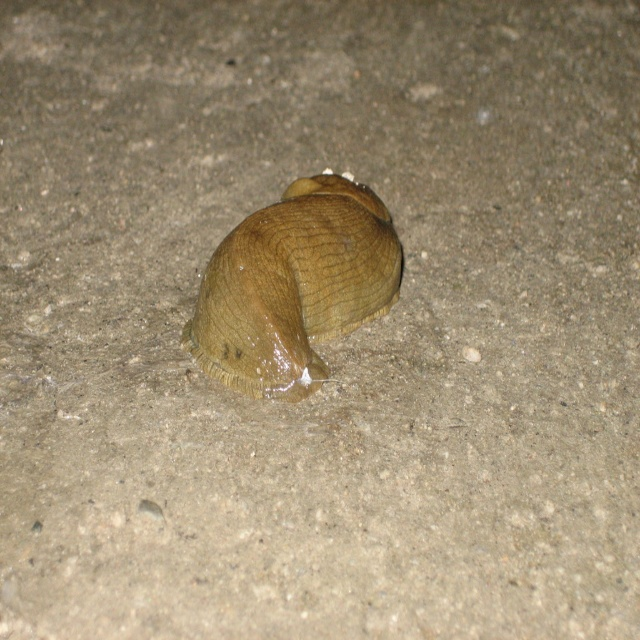Snail: (182, 165, 408, 401)
